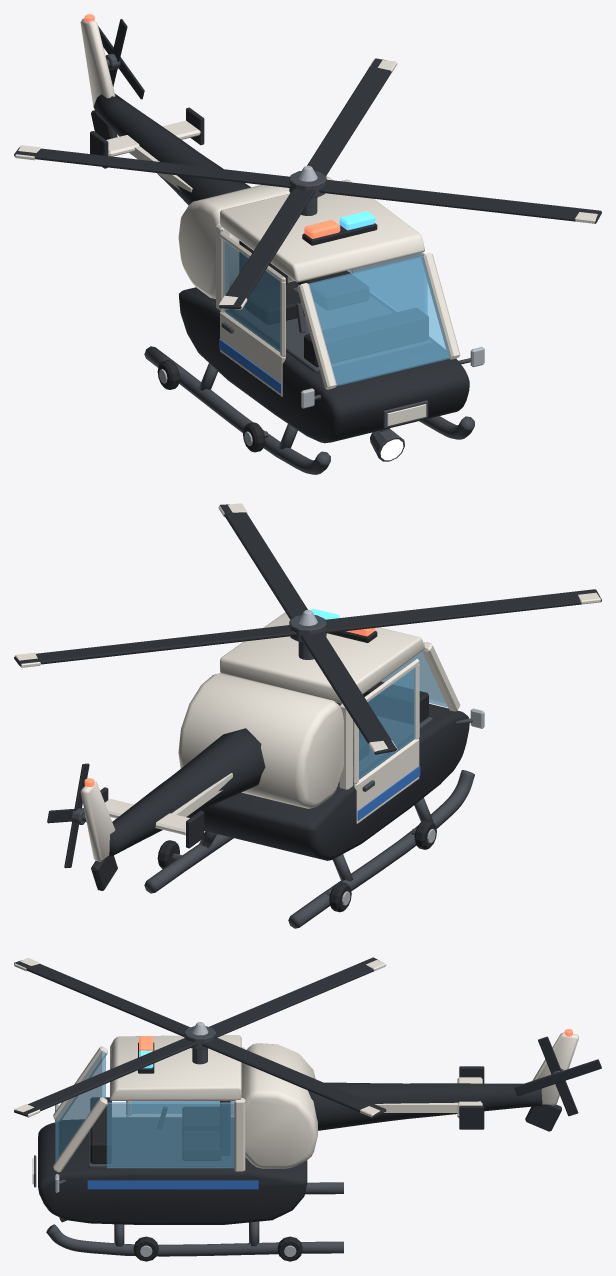
The model's file is police-helicopter.glb.
3 views of the same model, one above another, from view 1: azimuth 30°, elevation 25°; view 2: azimuth 150°, elevation 25°; view 3: azimuth 270°, elevation 25° (orthographic). The views are drawn at different scales.
Parts seen in each view (by area): view 1: Hull, Windshield, Roof, Fairing, TailBoom, Dash, MainRotor_Blade4, CabinFloor, MainRotor_Blade2, Door_Window, SideWindow_R, MainRotor_Blade3 (+11 smaller); view 2: Fairing, Hull, Roof, TailBoom, MainRotor_Blade3, MainRotor_Blade1, Door_Window, MainRotor_Blade2, Skid_L, MainRotor_Blade4, Door_Panel, Dash (+13 smaller); view 3: Hull, SideWindow_R, Fairing, Roof, TailBoom, CabinFloor, Skid_R, MainRotor_Blade1, MainRotor_Blade2, MainRotor_Blade4, MainRotor_Blade3, Windshield (+19 smaller).
Part boxes in pixels (bbox=[...]): Hull: bbox=[179, 281, 469, 443]; Windshield: bbox=[308, 255, 451, 386]; Roof: bbox=[220, 179, 424, 282]; Fairing: bbox=[178, 176, 333, 298]; TailBoom: bbox=[93, 94, 250, 205]; Dash: bbox=[304, 308, 428, 367]; MainRotor_Blade4: bbox=[319, 179, 601, 223]; CabinFloor: bbox=[229, 287, 432, 372]; MainRotor_Blade2: bbox=[14, 147, 290, 187]; Door_Window: bbox=[223, 240, 280, 351]; SideWindow_R: bbox=[349, 252, 426, 313]; MainRotor_Blade3: bbox=[219, 188, 315, 308]; Fairing: bbox=[178, 673, 343, 808]; Hull: bbox=[187, 703, 469, 860]; Roof: bbox=[220, 612, 424, 703]; TailBoom: bbox=[109, 728, 265, 856]; MainRotor_Blade3: bbox=[325, 589, 601, 633]; MainRotor_Blade1: bbox=[14, 625, 296, 666]; Door_Window: bbox=[359, 667, 415, 779]; MainRotor_Blade2: bbox=[300, 631, 396, 754]; Skid_L: bbox=[288, 770, 474, 928]; MainRotor_Blade4: bbox=[219, 504, 307, 619]; Door_Panel: bbox=[353, 738, 419, 823]; Dash: bbox=[363, 681, 428, 724]; Hull: bbox=[38, 1119, 307, 1224]; SideWindow_R: bbox=[106, 1102, 234, 1168]; Fairing: bbox=[241, 1043, 317, 1168]; Roof: bbox=[110, 1035, 241, 1100]; TailBoom: bbox=[308, 1082, 542, 1130]; CabinFloor: bbox=[88, 1117, 233, 1168]; Skid_R: bbox=[46, 1224, 343, 1256]; MainRotor_Blade1: bbox=[202, 1037, 386, 1117]; MainRotor_Blade2: bbox=[209, 957, 379, 1037]; MainRotor_Blade4: bbox=[14, 1038, 197, 1116]; MainRotor_Blade3: bbox=[14, 960, 189, 1036]; Windshield: bbox=[55, 1050, 105, 1161].
Bounding box in the file's own units: 20.71 × 12.5 × 32.69.
